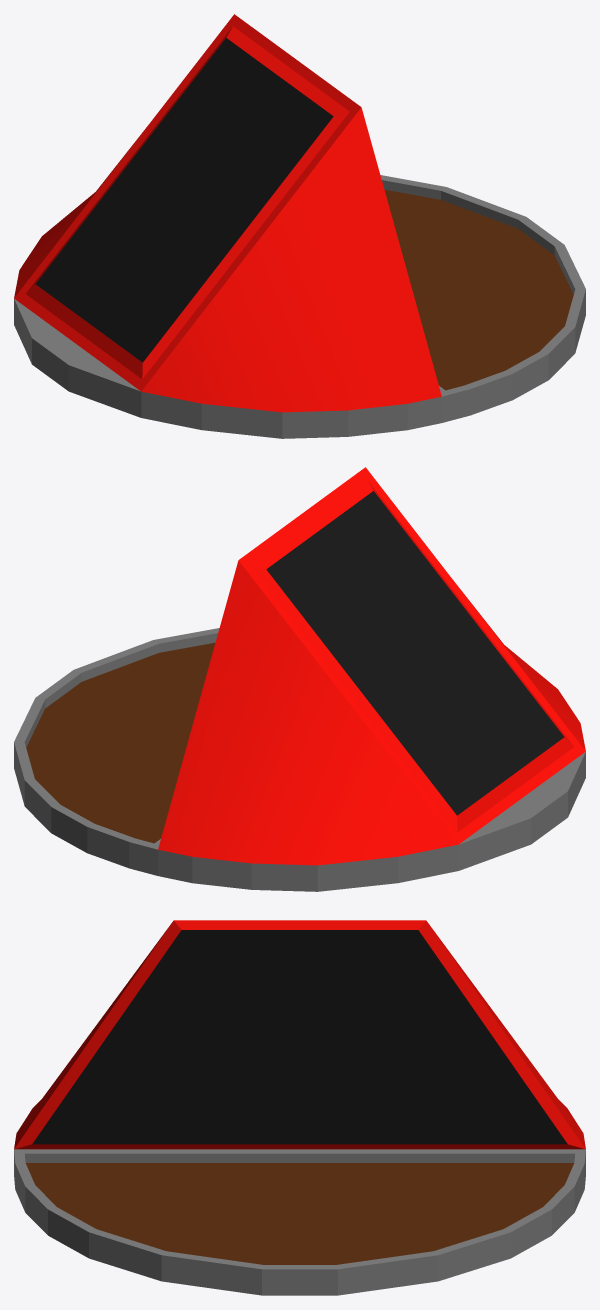
The picture shows the model from 3 angles, top to bottom: view 1: azimuth 30°, elevation 25°; view 2: azimuth 150°, elevation 25°; view 3: azimuth 270°, elevation 25°; orthographic projection.
Parts seen in each view (by area): view 1: Box028; view 2: Box028; view 3: Box028.
Boxes of the visible parts, x1,y1,x2,y2 form: Box028: [14, 14, 585, 438]; Box028: [14, 467, 585, 891]; Box028: [14, 920, 585, 1295].
Bounding box in the file's own units: 54.61 × 27.09 × 55.02.
